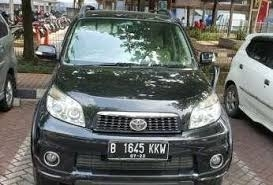plate: (108, 140, 168, 161)
